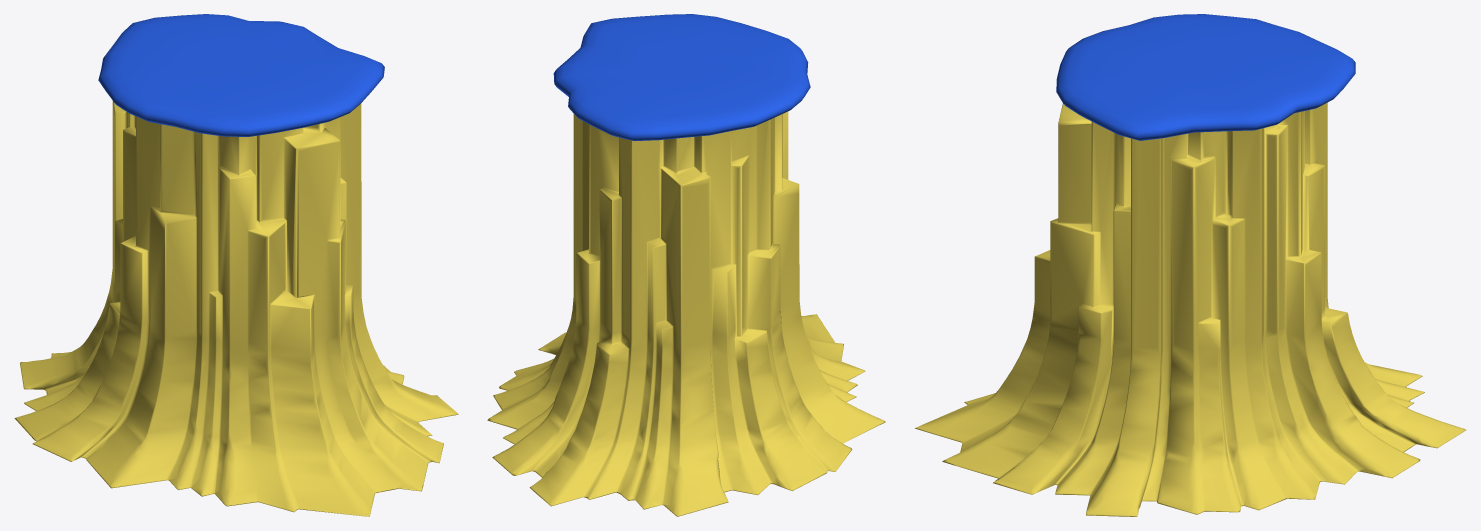
The model's file is Cliff.fbx.
The picture shows the model from 3 angles, left to right: view 1: azimuth 30°, elevation 25°; view 2: azimuth 150°, elevation 25°; view 3: azimuth 270°, elevation 25°; orthographic projection. The views are drawn at different scales.
Visible parts, largest first — view 1: Circle; view 2: Circle; view 3: Circle.
Boxes of the visible parts, <box> form: Circle: <box>14,14,458,516</box>; Circle: <box>487,14,885,516</box>; Circle: <box>915,14,1466,516</box>.
Bounding box in the file's own units: 3425 × 3260 × 4479.
